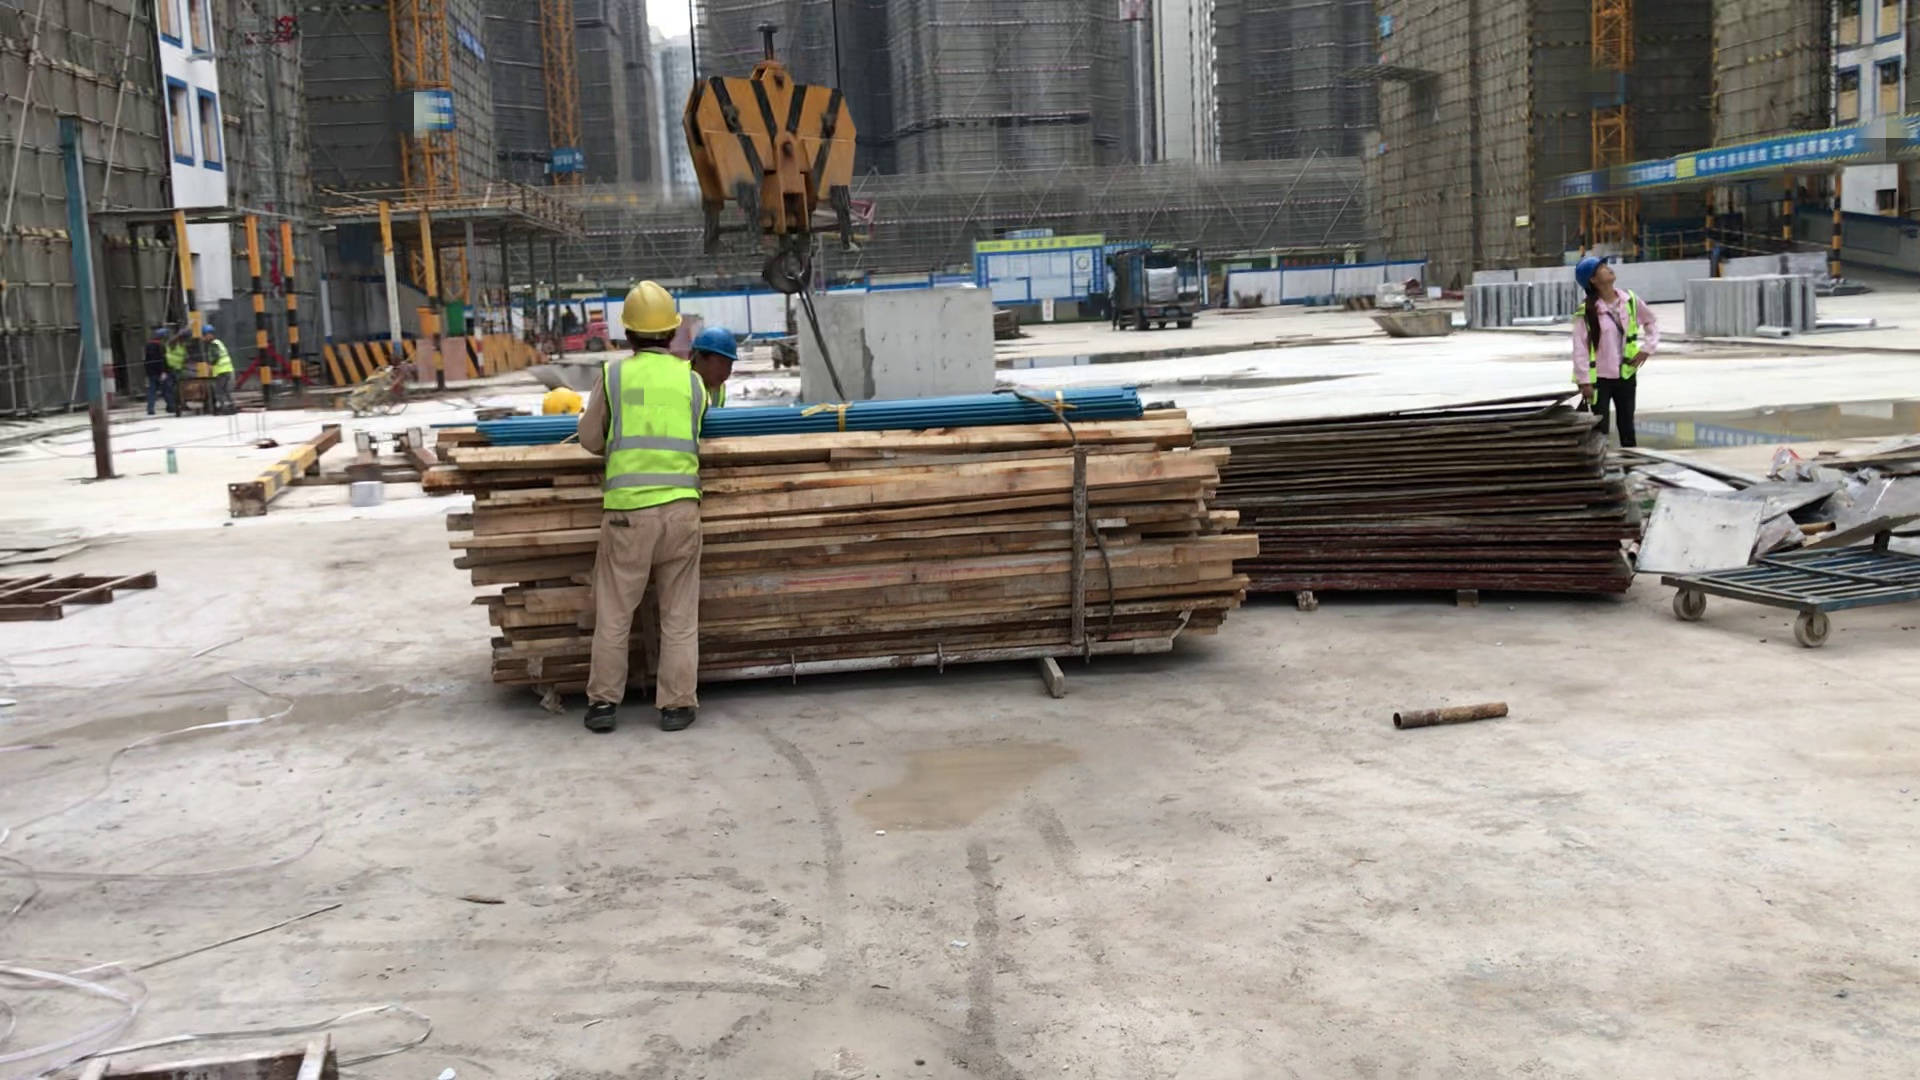board: (1220, 408, 1644, 594)
brick: (1622, 263, 1706, 301)
handcart: (1671, 539, 1920, 644), (334, 347, 424, 419), (172, 366, 217, 413)
helmet: (617, 275, 688, 344), (696, 323, 740, 386), (1574, 254, 1613, 299)
hook: (683, 56, 858, 297)
hopper: (1372, 304, 1460, 342), (517, 362, 601, 397)
person: (594, 279, 701, 739), (1568, 257, 1657, 463), (142, 324, 187, 416), (199, 318, 238, 418)
slogan: (1640, 125, 1861, 192), (408, 83, 467, 140), (450, 21, 492, 63), (539, 148, 592, 172)
vest: (600, 351, 702, 512), (1621, 289, 1642, 385), (213, 340, 233, 377)
wood: (469, 413, 1210, 711)
